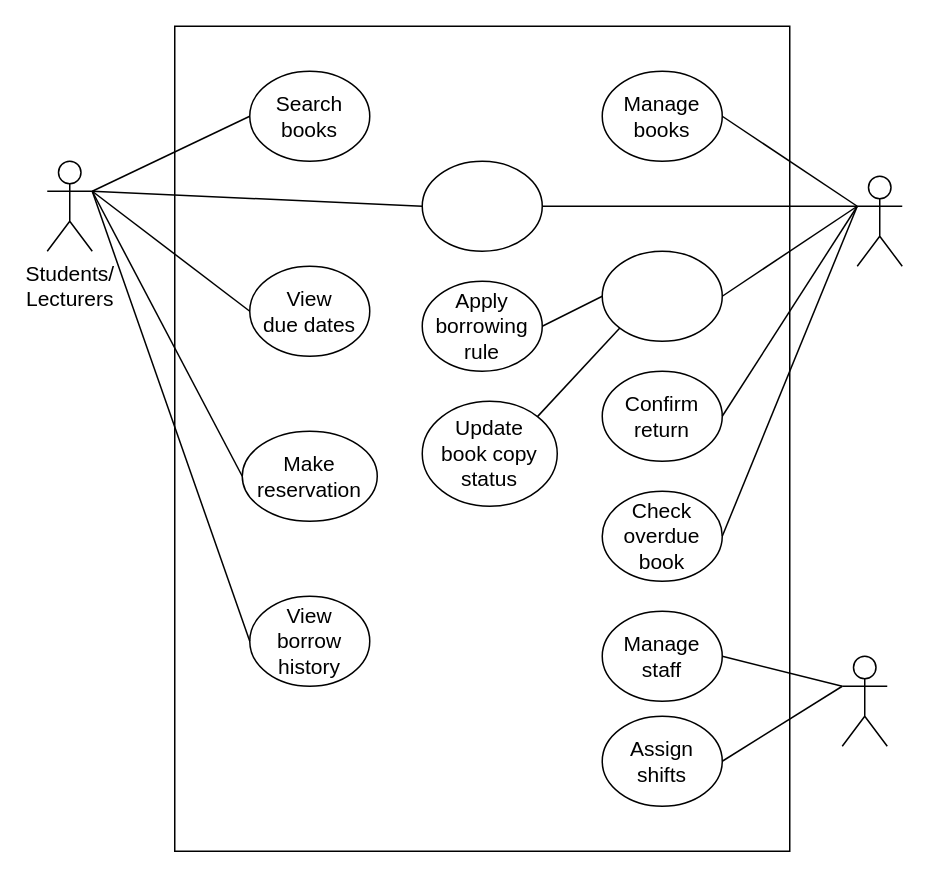
Image size: 932x878. Some labels were removed from this diagram. Here are the shapes that lost their labels. From the top down, the centre of each, then its label:
[481,205]: Log in/out
[879,220]: Staff
[661,295]: Create borrow record
[864,700]: Manager
